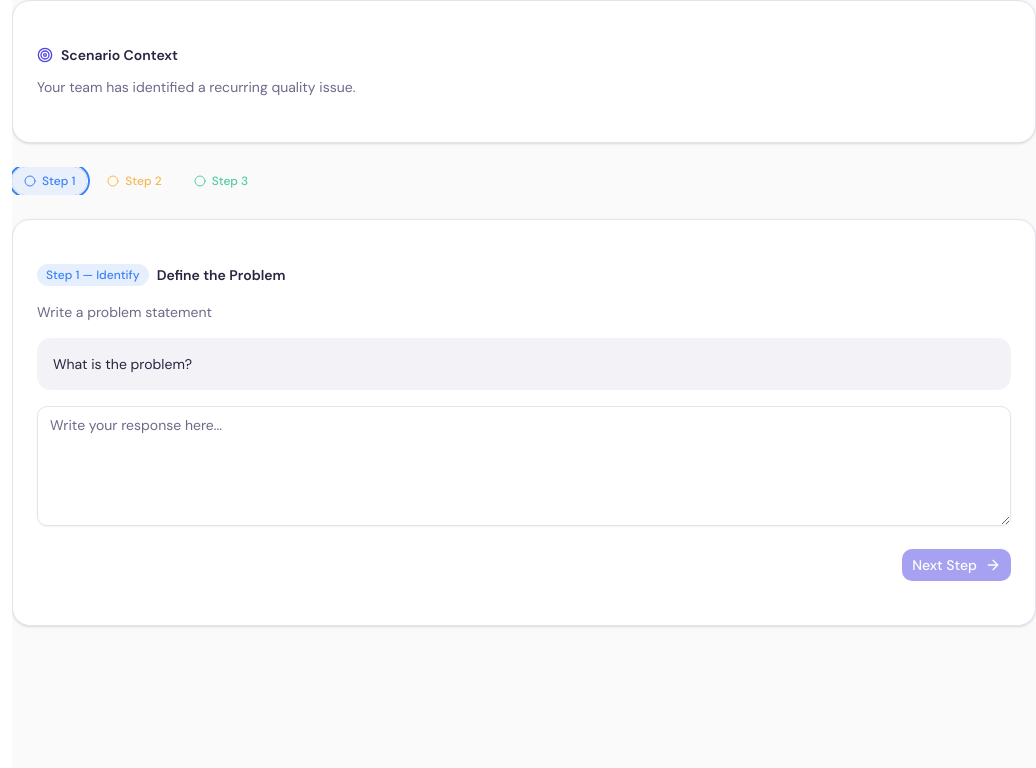
ScenarioRunner › advances to next step on submit
The width and height of the screenshot is (1036, 768).
Type "Problem identified" into the text box at [524, 466], box [37,406,1011,526]
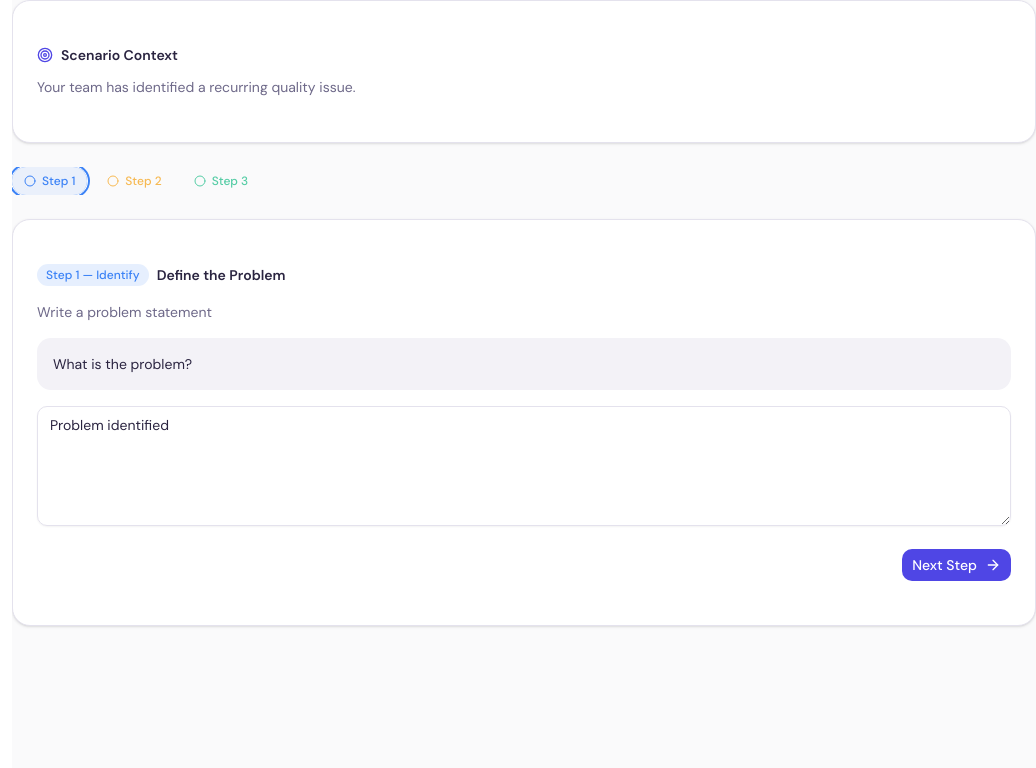
Click the button "Next Step" at [957, 565], box [902,549,1011,581]
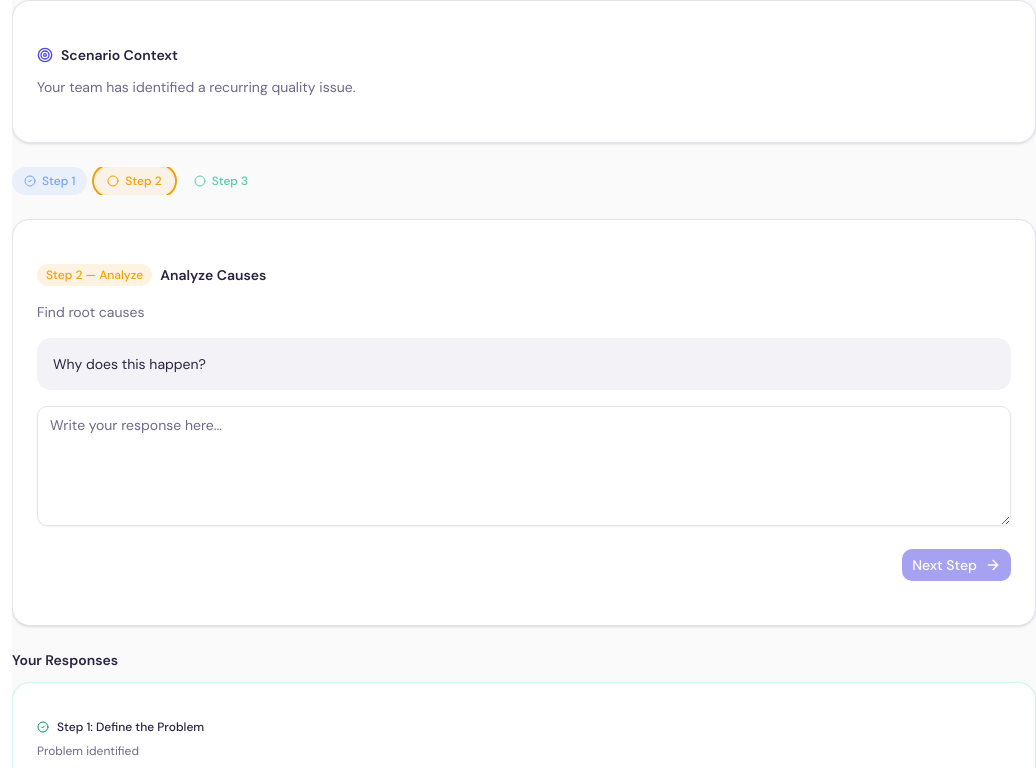
Expected: the heading "Analyze Causes" is shown, [160,265,266,285]
Expected: the text "Why does this happen?" is shown, [37,338,1011,390]
